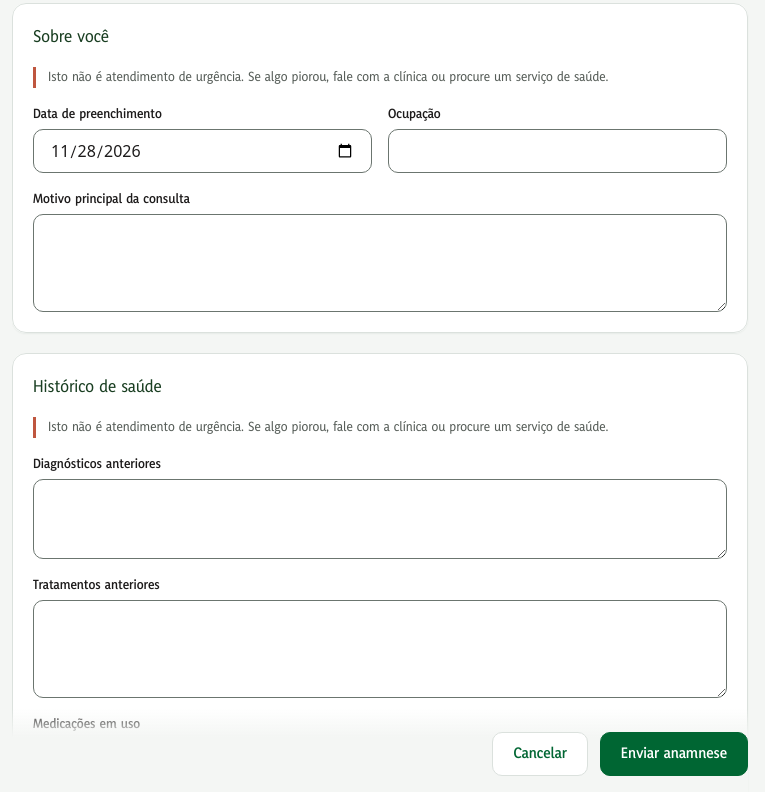
Test case: Anamnese › ficha recusada pela api leva o foco pro primeiro campo com erro
Type "dor" into the text box labelled "Motivo principal da consulta" at (380, 263), box [33,214,727,312]
(page scrolled)
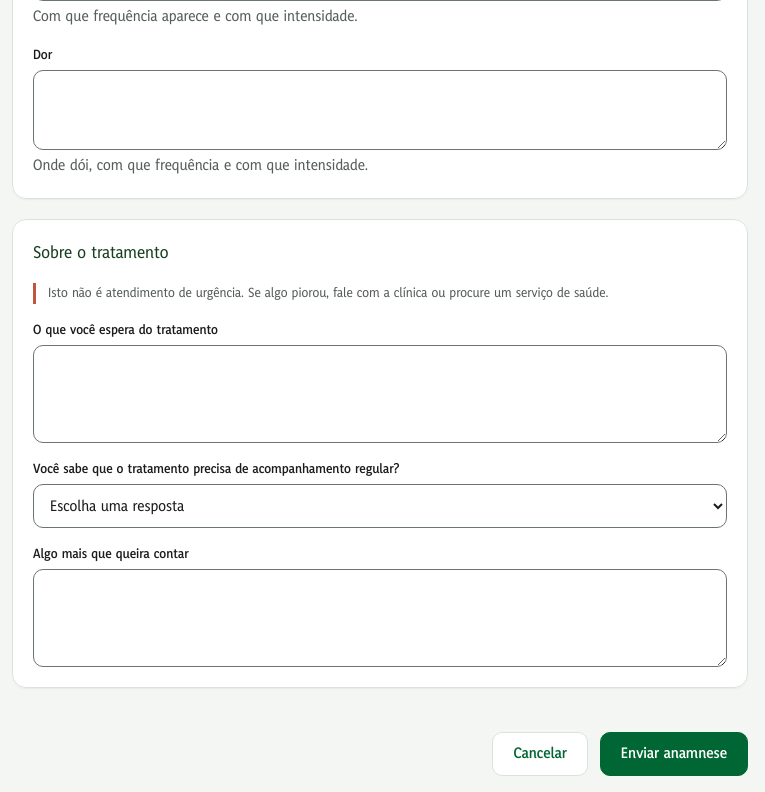
Select "Sim" in the dropdown labelled "Você sabe que o tratamento precisa de acompanhamento regular?" at (380, 506), box [33,484,727,528]
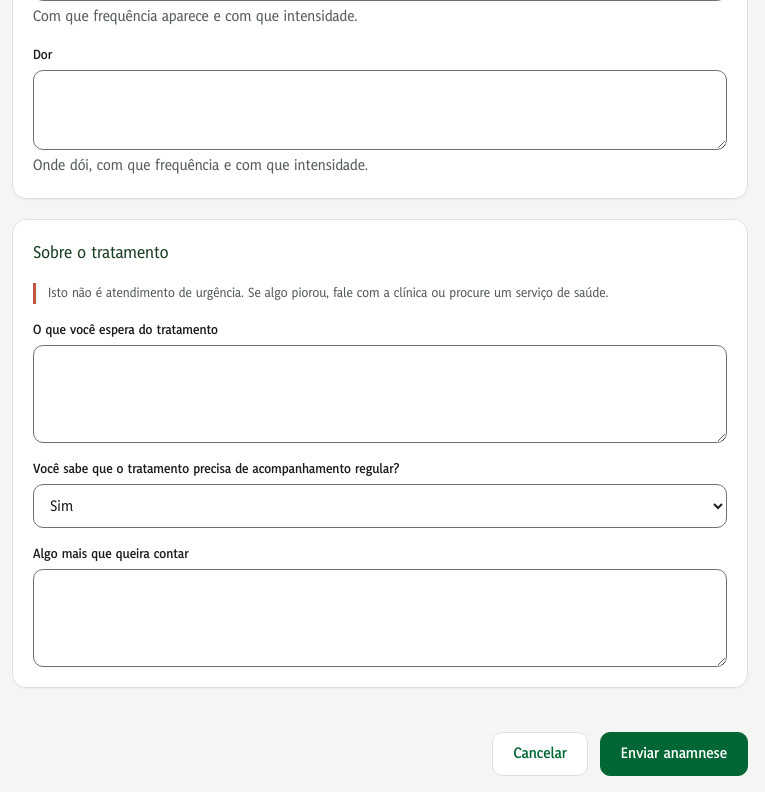
Click the button "Enviar anamnese" at (674, 754), box [600,732,748,776]
(page scrolled)
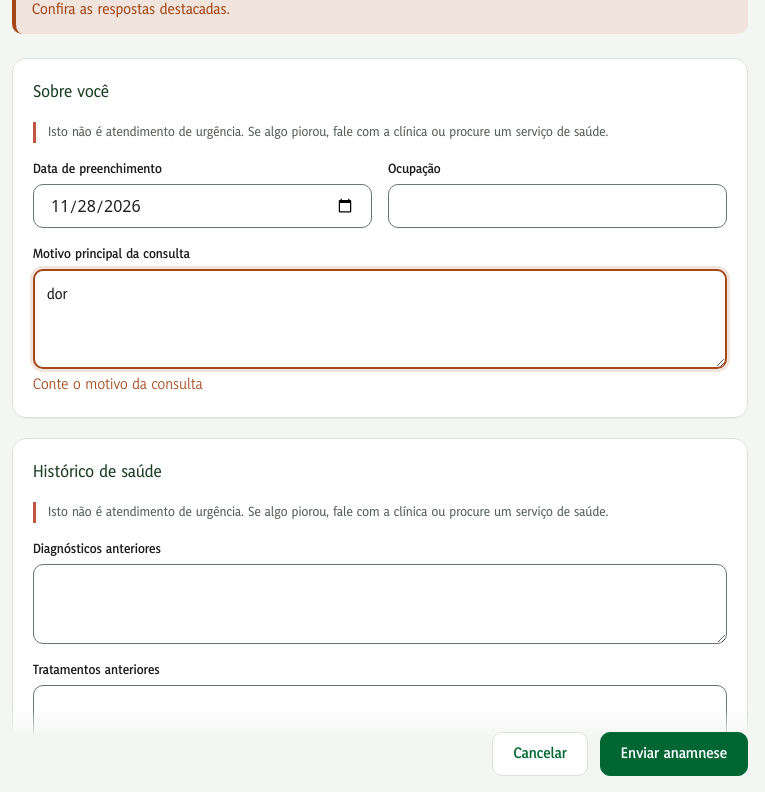
Expected: the text "Conte o motivo da consulta" is shown, [33,374,202,395]
